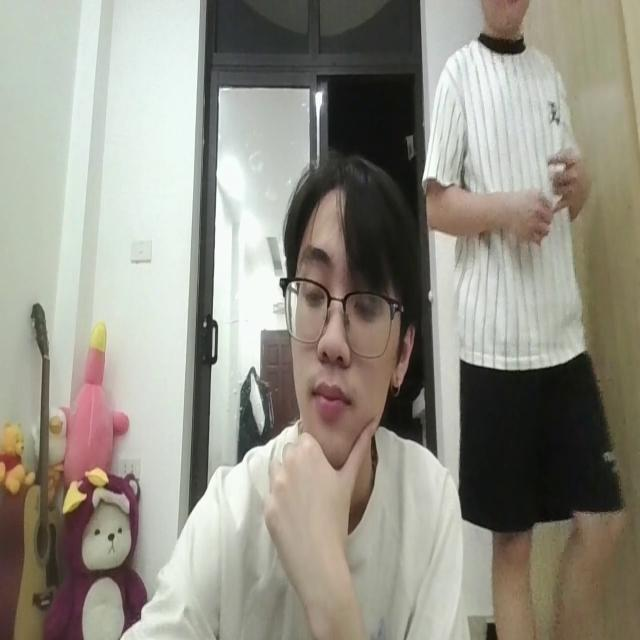extra_person: (420, 0, 632, 624)
student: (99, 148, 459, 640)
